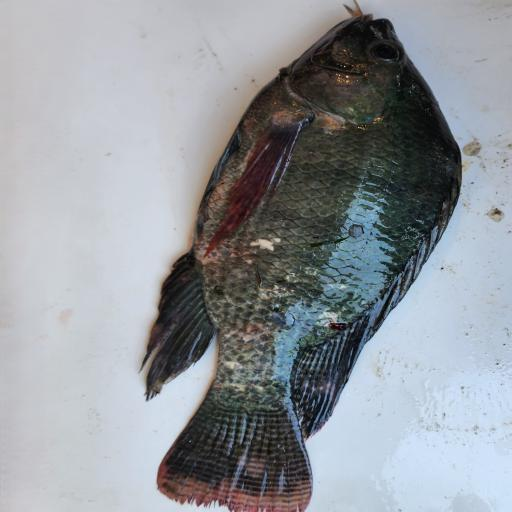Tilapia: (138, 0, 462, 512)
